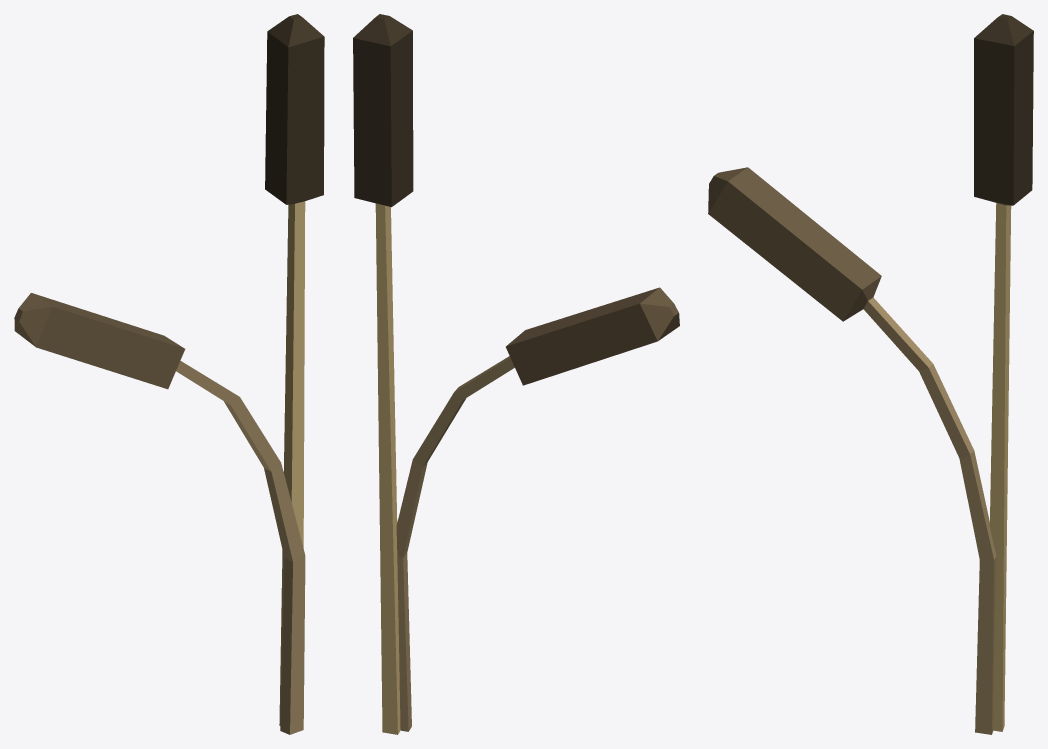
The model's file is EA03_Nature_SweetFlag_01d.glb.
3 renders of one model, left to right at view 1: azimuth 30°, elevation 25°; view 2: azimuth 150°, elevation 25°; view 3: azimuth 330°, elevation 25°, orthographic.
Visible parts, largest first — view 1: EA03_Nature_SweetFlag_01d; view 2: EA03_Nature_SweetFlag_01d; view 3: EA03_Nature_SweetFlag_01d.
Boxes of the visible parts, x1=… form: EA03_Nature_SweetFlag_01d: x1=14, y1=14, x2=324, y2=734; EA03_Nature_SweetFlag_01d: x1=353, y1=14, x2=679, y2=734; EA03_Nature_SweetFlag_01d: x1=708, y1=14, x2=1033, y2=734.
Bounding box in the file's own units: 1.33 × 2.96 × 0.213.
Materials: 1 (1 with a texture image).
